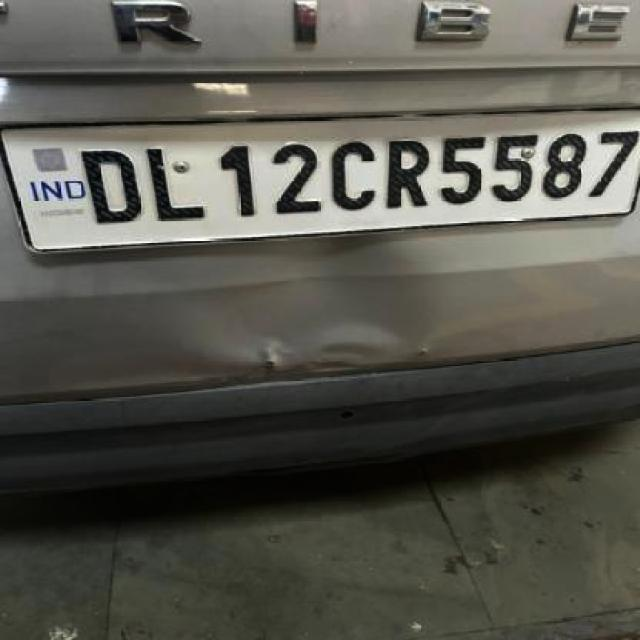minor: (197, 258, 635, 372)
